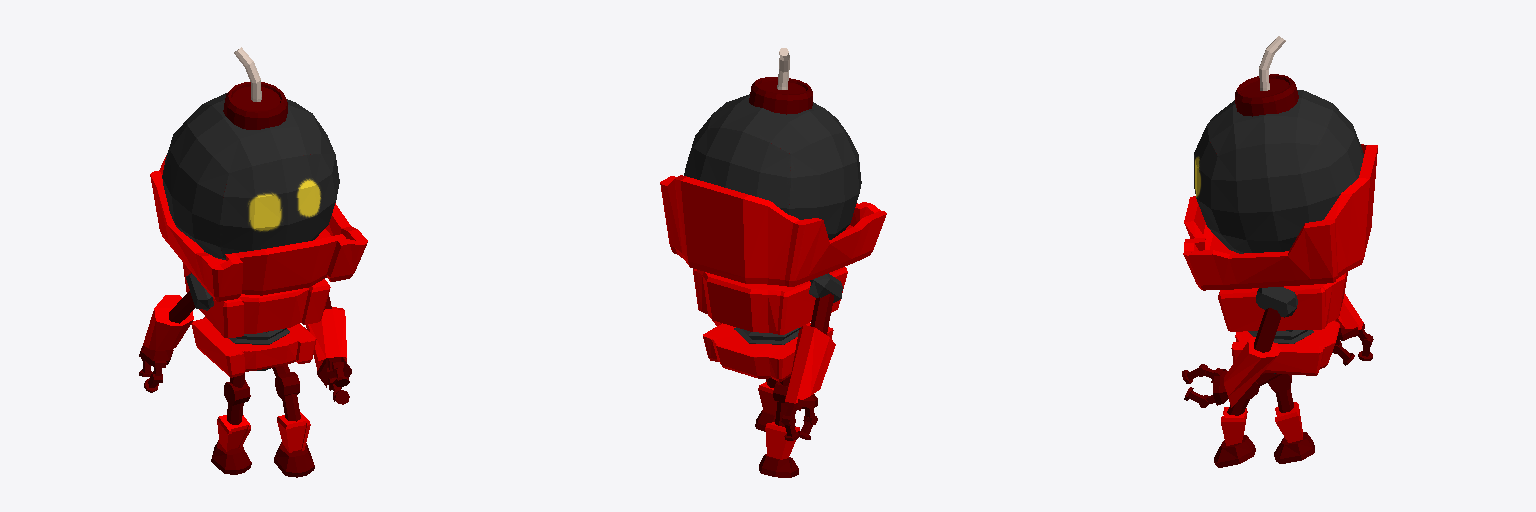
3 views of the same model, side by side, from view 1: azimuth 30°, elevation 25°; view 2: azimuth 150°, elevation 25°; view 3: azimuth 270°, elevation 25° (orthographic).
Parts seen in each view (by area): view 1: bomb bombot, bombot body top polySurface20 polySurface18, bombot body top, bombot body bottom, bombot body top arms polySurface51 arm_left polySurface38 polySu, bomb bombot bomb, bombot body bottom polySurface13 leg_Right polySurface11 polySur, bombot body bottom polySurface13 leg_left polySurface5 polySurfa, bombot body top arm_right arms polySurface23 polySurface35, bombot body top arm_right arms polySurface23 polySurface35 polyS, bomb bombot bomb wick, bombot body (+1 smaller); view 2: bomb bombot, bombot body top polySurface20 polySurface18, bombot body top, bombot body bottom, bombot body top arm_right arms polySurface23 polySurface35, bomb bombot bomb, bombot body bottom polySurface13 leg_left polySurface5 polySurfa, bombot body top arm_right arms polySurface23 polySurface35 polyS, bombot body bottom polySurface13 leg_Right polySurface11 polySur, bombot body top arm_right arms, bombot body, bombot body top arm_right arms polySurface23; view 3: bomb bombot, bombot body top polySurface20 polySurface18, bombot body top, bombot body top arms polySurface51 arm_left polySurface38 polySu, bombot body bottom, bomb bombot bomb, bombot body bottom polySurface13 leg_left polySurface5 polySurfa, bombot body bottom polySurface13 leg_Right polySurface11 polySur, bombot body top arms polySurface51 arm_left, bombot body top arm_right arms polySurface23 polySurface35 polyS, bombot body top arms polySurface51 arm_left polySurface38, bomb bombot bomb wick (+1 smaller).
Part boxes in pixels (left/top/right/bottom): bomb bombot: left=162, top=93, right=339, bottom=259; bombot body top polySurface20 polySurface18: left=150, top=155, right=367, bottom=301; bombot body top: left=182, top=261, right=330, bottom=338; bombot body bottom: left=191, top=317, right=316, bottom=377; bombot body top arms polySurface51 arm_left polySurface38 polySu: left=306, top=307, right=351, bottom=404; bomb bombot bomb: left=223, top=82, right=287, bottom=129; bombot body bottom polySurface13 leg_Right polySurface11 polySur: left=274, top=394, right=314, bottom=477; bombot body bottom polySurface13 leg_left polySurface5 polySurfa: left=211, top=403, right=251, bottom=474; bombot body top arm_right arms polySurface23 polySurface35: left=143, top=295, right=193, bottom=350; bombot body top arm_right arms polySurface23 polySurface35 polyS: left=139, top=345, right=173, bottom=392; bomb bombot bomb wick: left=234, top=47, right=261, bottom=101; bombot body: left=229, top=328, right=289, bottom=344; bomb bombot: left=684, top=94, right=861, bottom=239; bombot body top polySurface20 polySurface18: left=660, top=175, right=886, bottom=286; bombot body top: left=693, top=267, right=847, bottom=334; bombot body bottom: left=703, top=323, right=833, bottom=381; bombot body top arm_right arms polySurface23 polySurface35: left=785, top=325, right=835, bottom=403; bomb bombot bomb: left=749, top=77, right=812, bottom=114; bombot body bottom polySurface13 leg_left polySurface5 polySurfa: left=759, top=402, right=799, bottom=477; bombot body top arm_right arms polySurface23 polySurface35 polyS: left=781, top=394, right=817, bottom=440; bombot body bottom polySurface13 leg_Right polySurface11 polySur: left=755, top=378, right=795, bottom=431; bombot body top arm_right arms: left=809, top=273, right=842, bottom=302; bombot body: left=734, top=327, right=800, bottom=344; bombot body top arm_right arms polySurface23: left=810, top=293, right=833, bottom=334; bomb bombot: left=1194, top=90, right=1363, bottom=253; bombot body top polySurface20 polySurface18: left=1183, top=144, right=1377, bottom=290; bombot body top: left=1218, top=272, right=1347, bottom=331; bombot body top arms polySurface51 arm_left polySurface38 polySu: left=1182, top=337, right=1281, bottom=407; bombot body bottom: left=1231, top=320, right=1339, bottom=375; bomb bombot bomb: left=1235, top=74, right=1298, bottom=116; bombot body bottom polySurface13 leg_left polySurface5 polySurfa: left=1274, top=388, right=1314, bottom=463; bombot body bottom polySurface13 leg_Right polySurface11 polySur: left=1214, top=398, right=1255, bottom=467; bombot body top arms polySurface51 arm_left: left=1256, top=287, right=1297, bottom=317; bombot body top arm_right arms polySurface23 polySurface35 polyS: left=1332, top=323, right=1373, bottom=365; bombot body top arms polySurface51 arm_left polySurface38: left=1254, top=308, right=1280, bottom=352; bomb bombot bomb wick: left=1259, top=36, right=1285, bottom=90.
Bounding box in the file's own units: 4.23 × 10.2 × 4.28.
Materials: 1 (1 with a texture image).